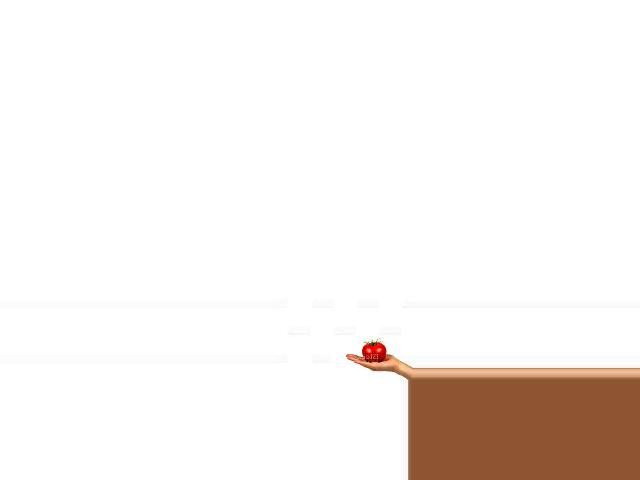tomato: (362, 342, 385, 362)
